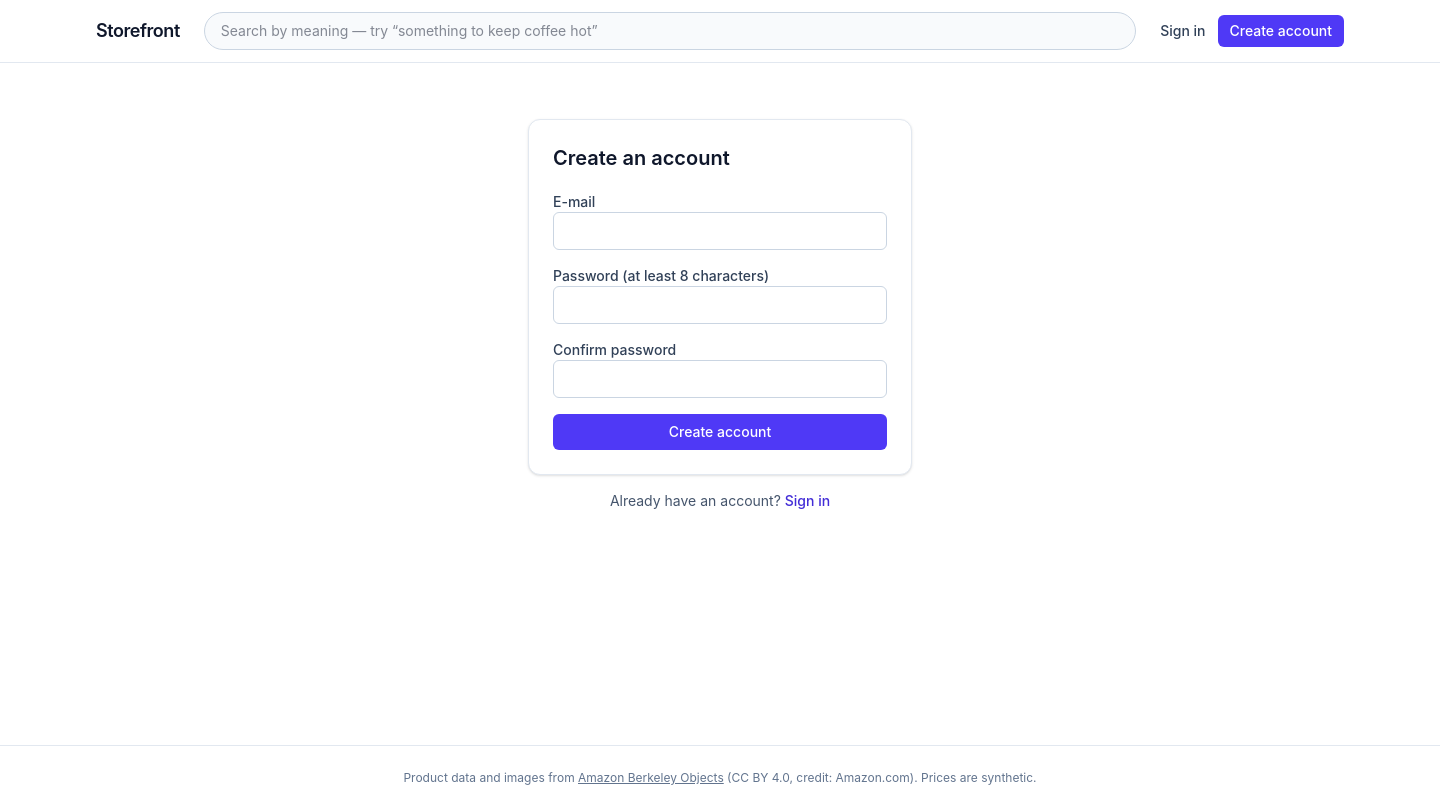
register › asks the user to confirm their e-mail
Check: the header is shown, box [0,0,1439,63]
Type "new@example.com" into the field labelled "E-mail" at [720, 231], box [553,212,887,250]
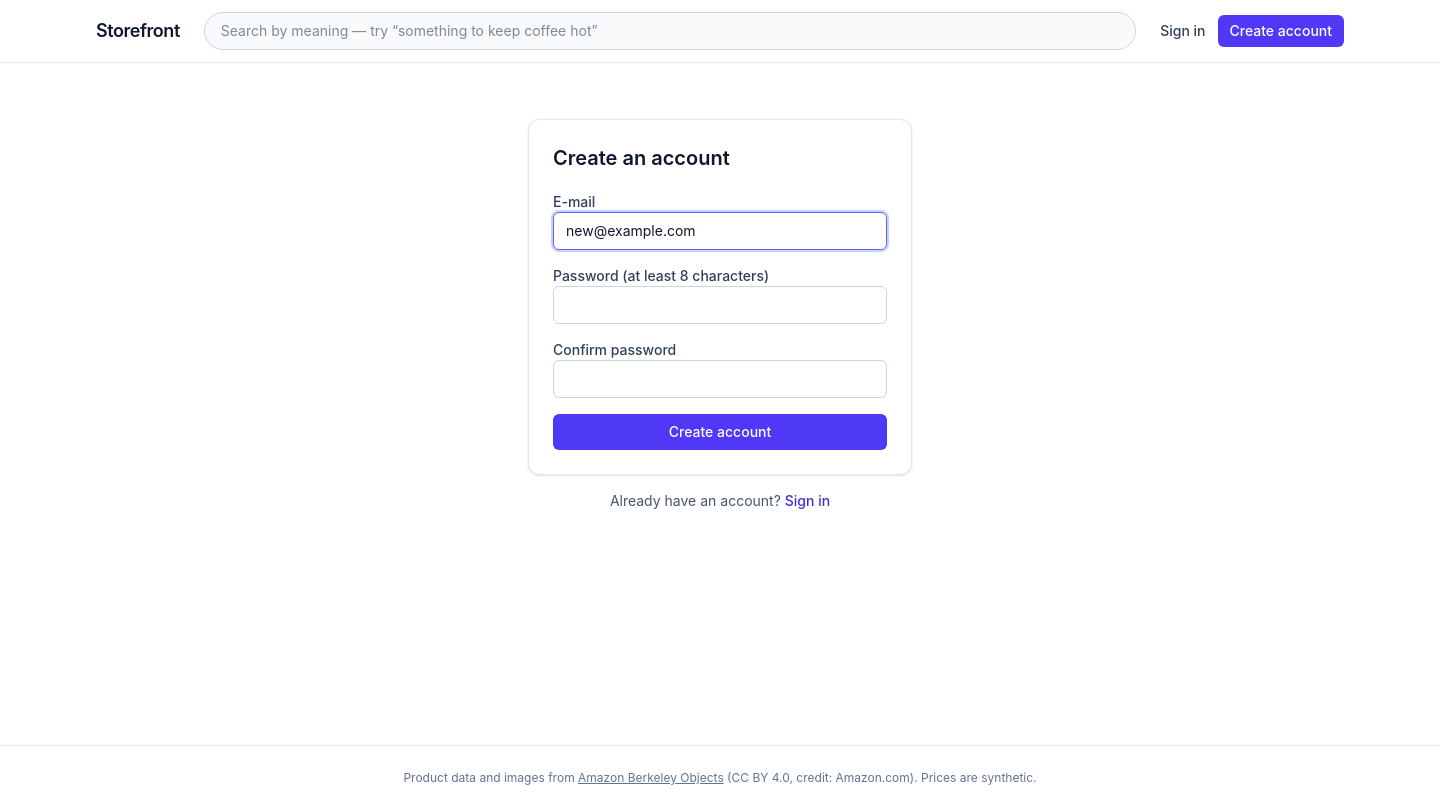
Type "correct-horse-battery" into the password field labelled "Password (at least 8 characters)" at [720, 305], box [553,286,887,324]
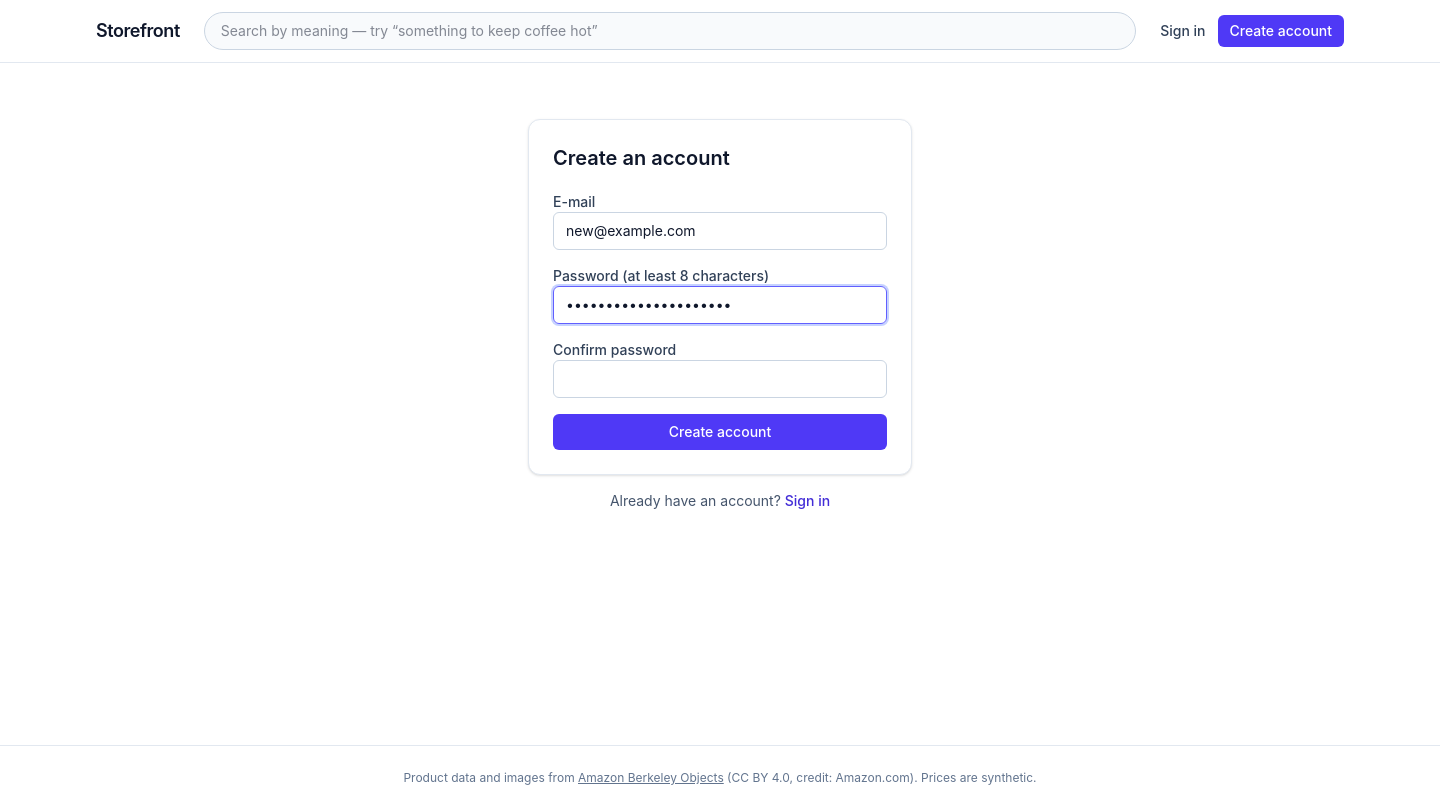
Type "correct-horse-battery" into the password field labelled "Confirm password" at [720, 379], box [553,360,887,398]
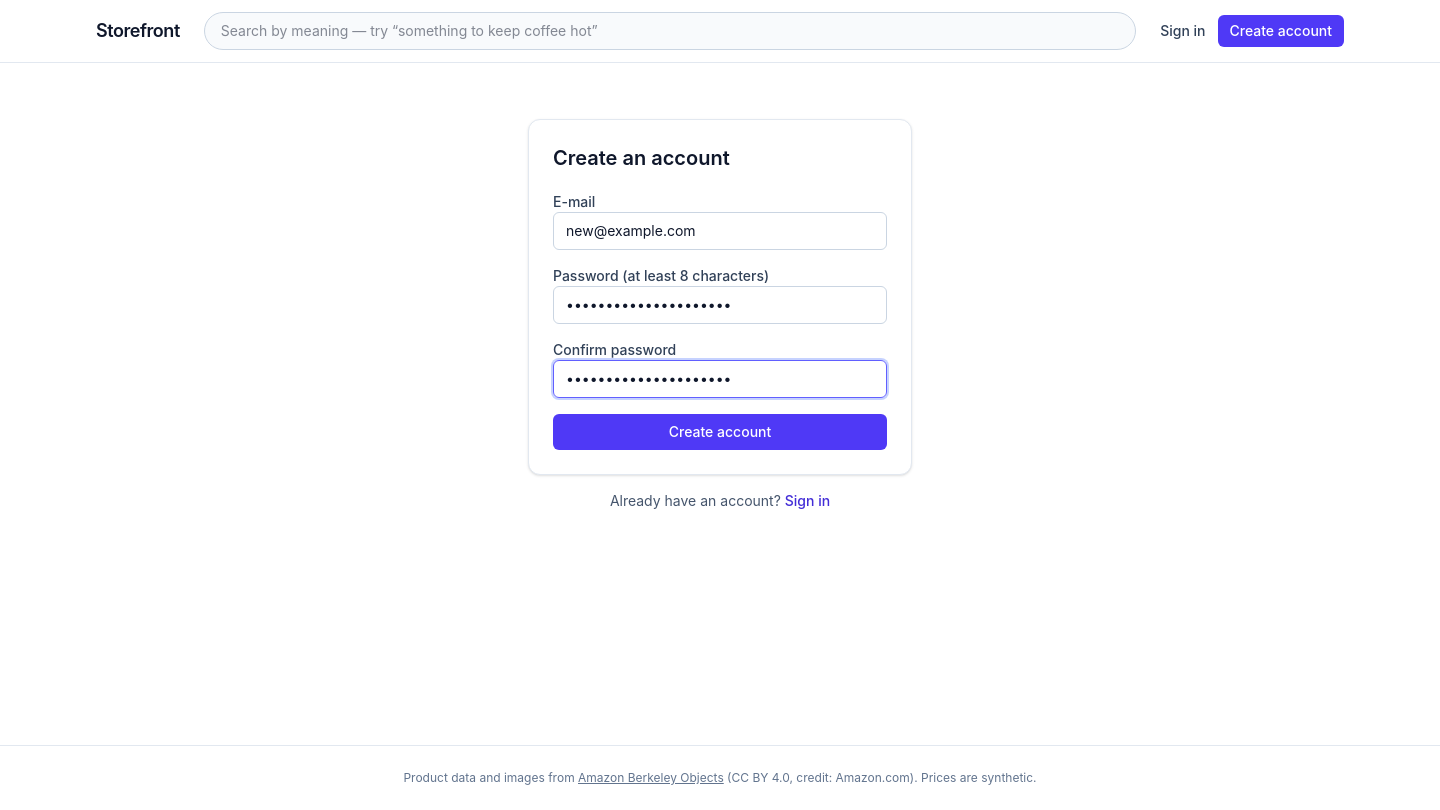
Click the button "Create account" at [720, 432], box [553,414,887,450]
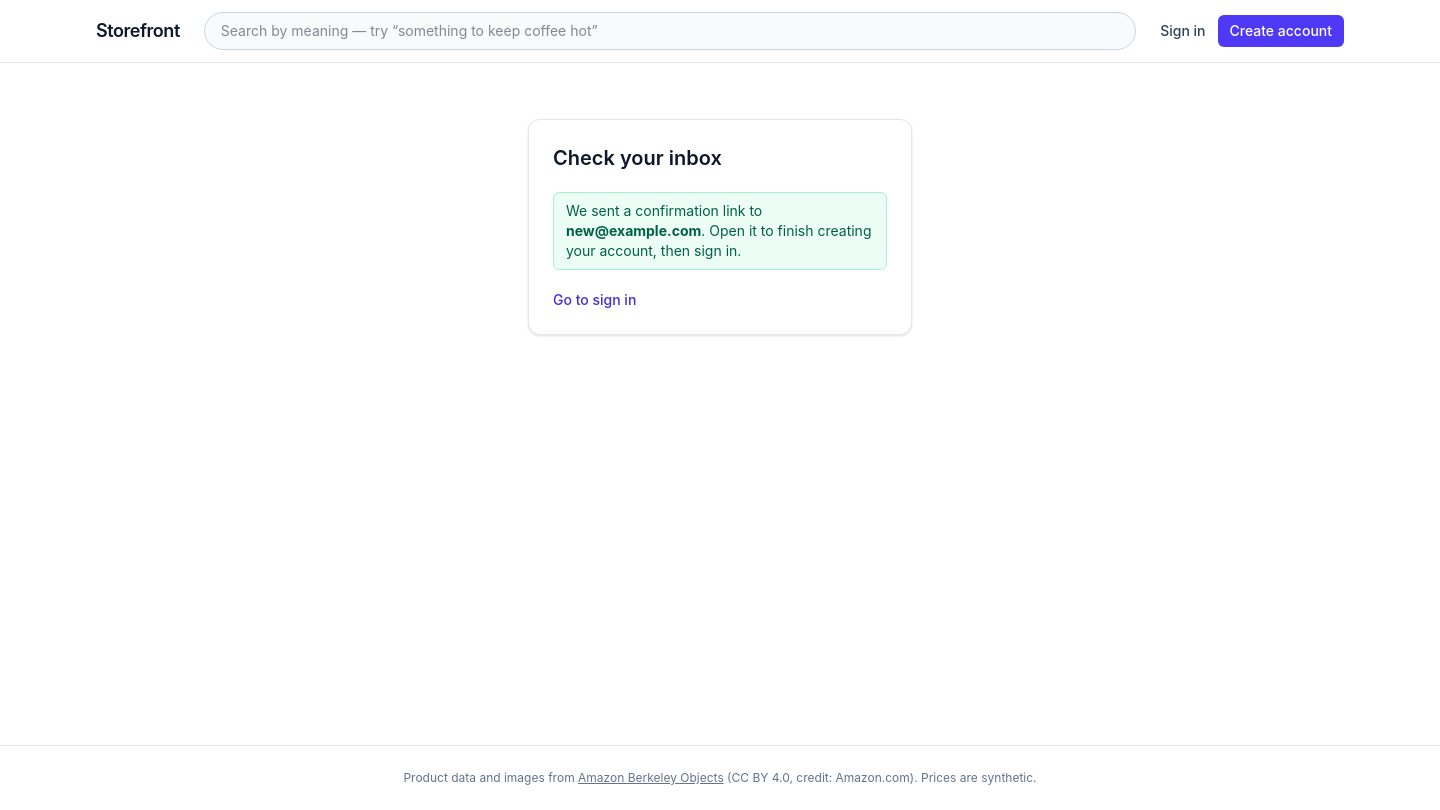
Check: the message shows "We sent a confirmation link to new@example.com", box [553,192,887,270]
